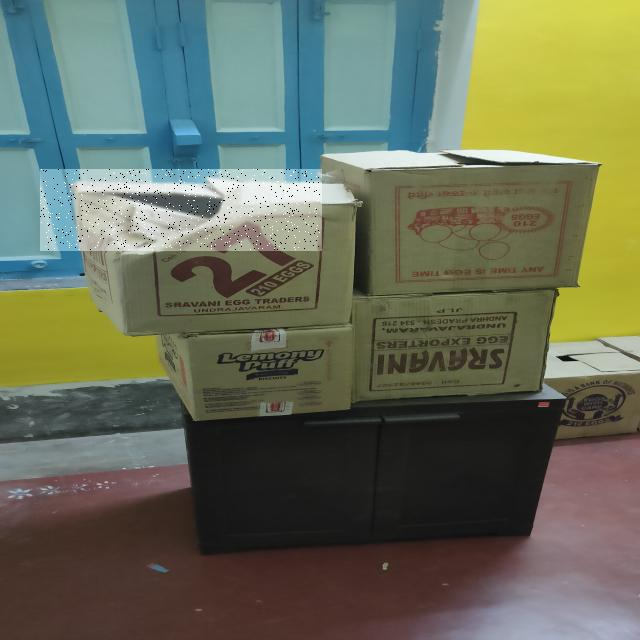tear: (41, 169, 320, 250)
